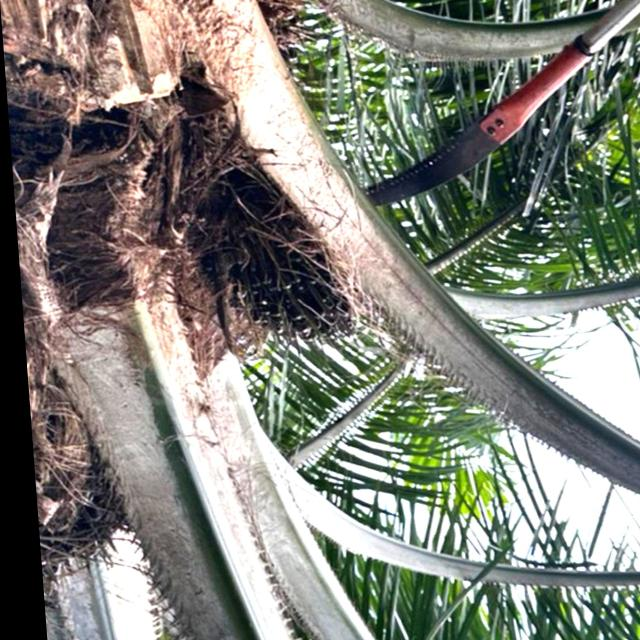unripe: (178, 162, 370, 366)
